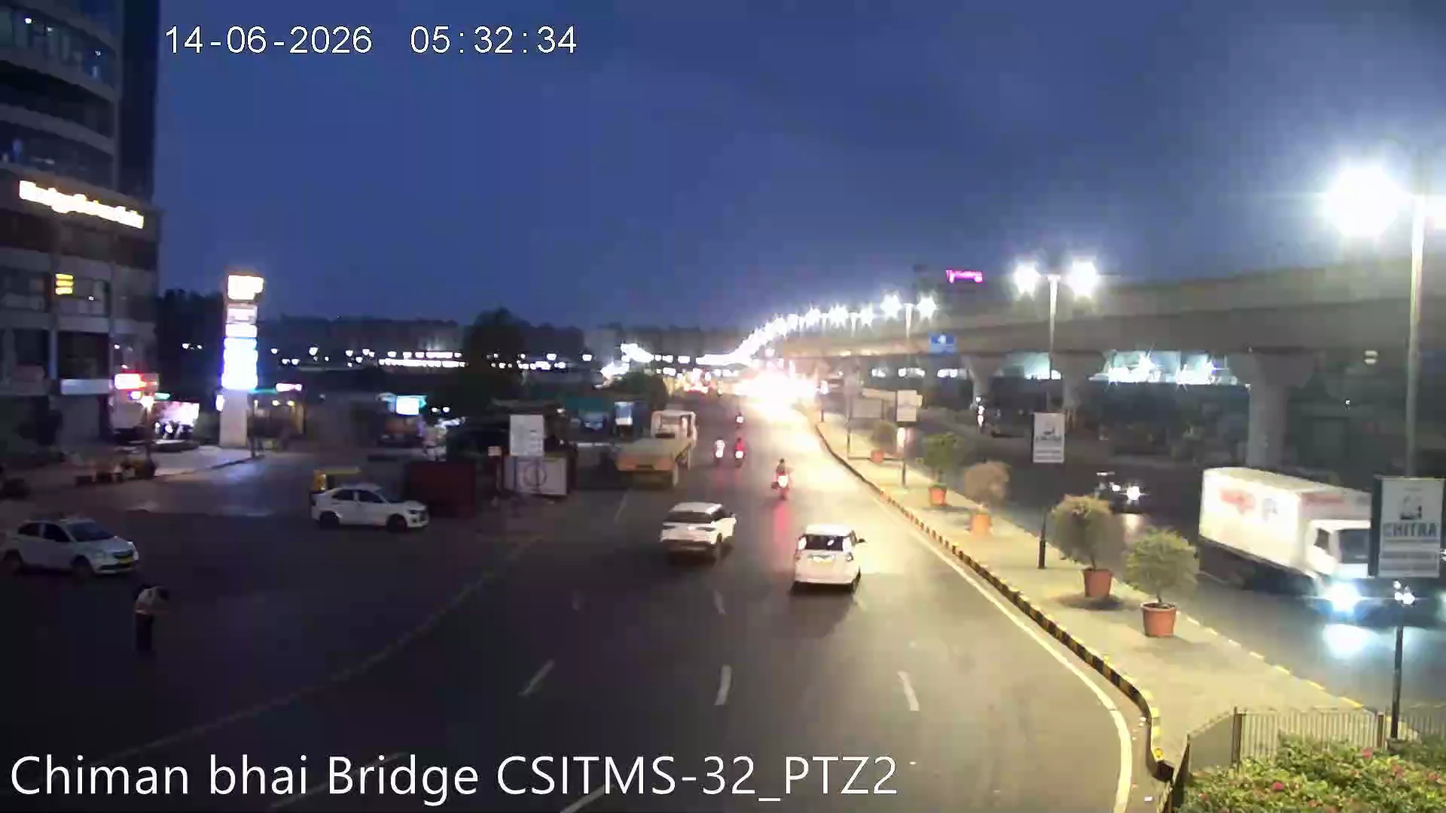auto_rickshaw: (1092, 467, 1149, 519)
bus: (1188, 461, 1423, 617), (618, 405, 698, 488), (639, 405, 698, 484)
car: (1, 505, 141, 580), (307, 474, 431, 535), (789, 521, 867, 593), (656, 497, 738, 562)
pedestrian: (126, 572, 167, 666)
two_wheeler: (767, 450, 797, 502), (728, 430, 751, 472), (710, 431, 728, 467)
